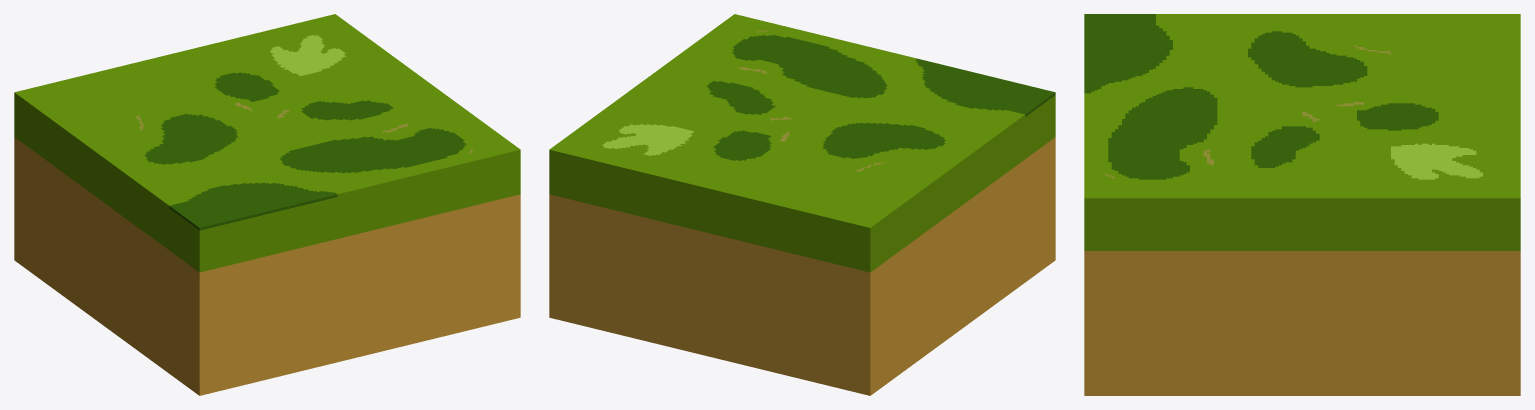
The picture shows the model from 3 angles, left to right: view 1: azimuth 30°, elevation 25°; view 2: azimuth 150°, elevation 25°; view 3: azimuth 270°, elevation 25°; orthographic projection. The views are drawn at different scales.
Visible parts, largest first — view 1: 7L; view 2: 7L; view 3: 7L.
Boxes of the visible parts, x1=… form: 7L: x1=14, y1=14, x2=520, y2=395; 7L: x1=549, y1=14, x2=1055, y2=395; 7L: x1=1084, y1=14, x2=1520, y2=395.
Size of the model in its own units: 12.8 by 6.4 by 12.8.
Materials: 1 (1 with a texture image).
